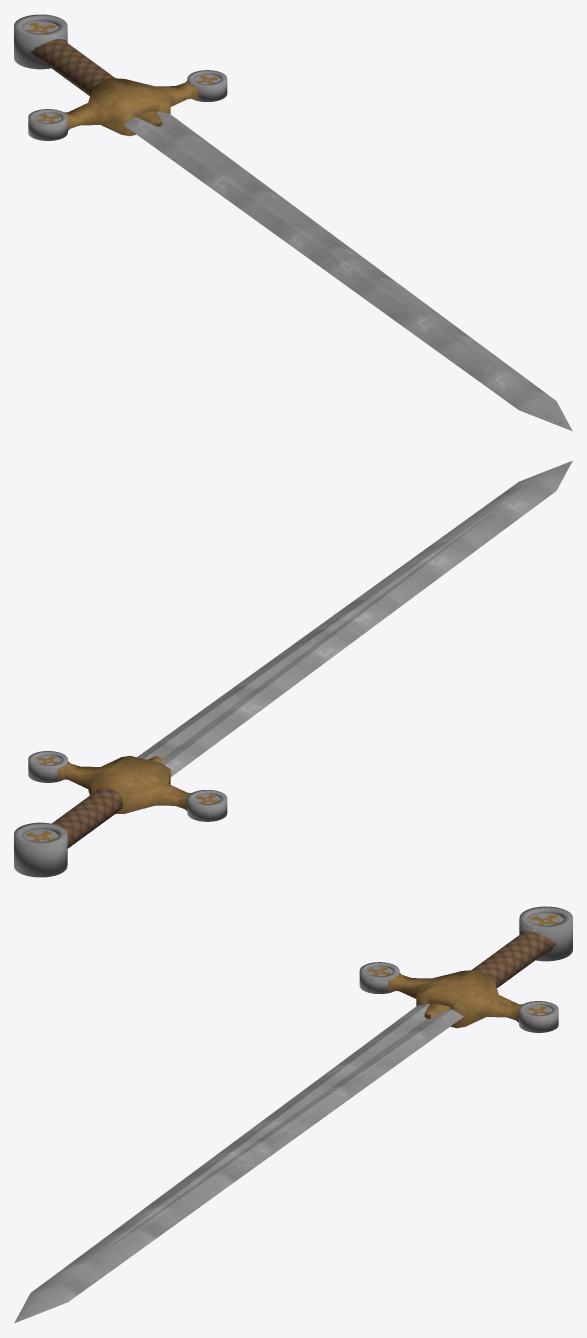
The model's file is LongSword.fbx.
The picture shows the model from 3 angles, top to bottom: view 1: azimuth 30°, elevation 25°; view 2: azimuth 150°, elevation 25°; view 3: azimuth 330°, elevation 25°; orthographic projection.
Visible parts, largest first — view 1: LongSword; view 2: LongSword; view 3: LongSword.
Part boxes in pixels (box(x1,y1,x2,y2)): LongSword: box(14, 14, 572, 431); LongSword: box(14, 460, 572, 877); LongSword: box(14, 906, 572, 1323).
Size of the model in its own units: 22.56 by 3.58 by 110.
